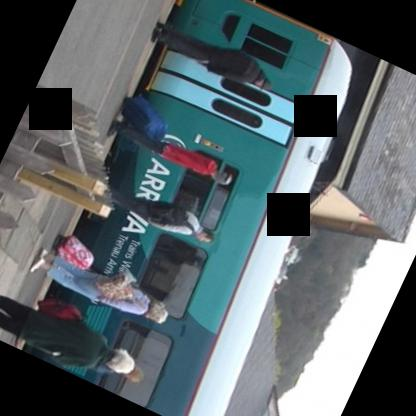backpack: (145, 200, 195, 235)
handbag: (93, 269, 147, 314), (35, 299, 82, 320)
suitcase: (119, 95, 167, 143), (53, 235, 92, 269)
